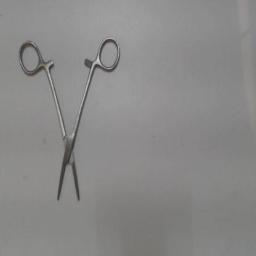Mayo Needle Holder: (16, 34, 124, 206)
